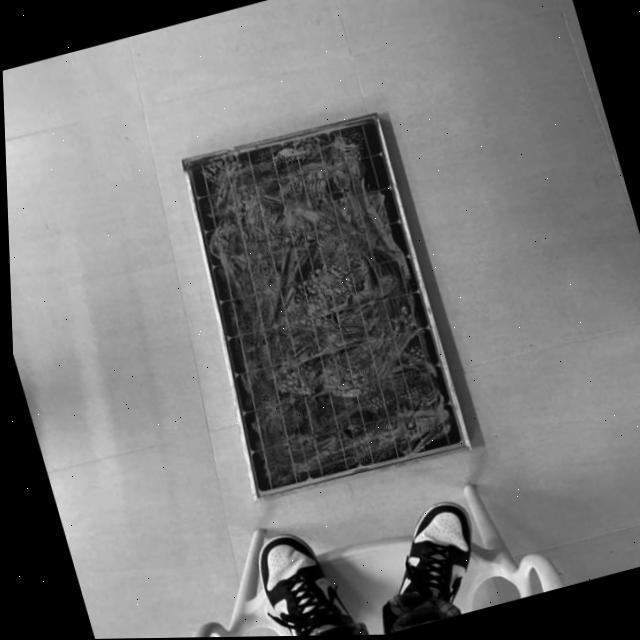Anomaly Solar Panel: (186, 113, 464, 498)
Surface Contaminant: (185, 124, 453, 494)
